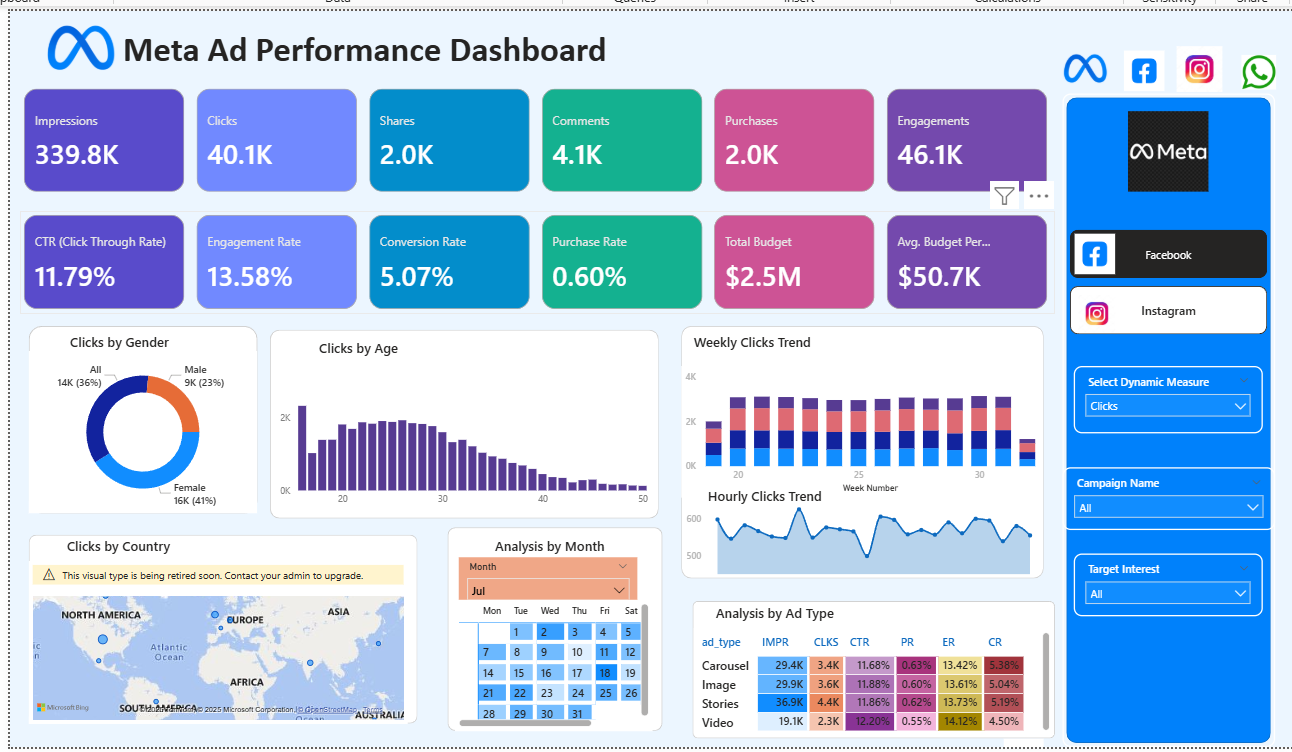

What the dashboard file says about the page in this screenshot:
{"tool":"powerbi","page":{"name":"Facebook","canvas":[1570,900],"ordinal":0},"visuals":[{"type":"textbox","box":[133,15.3,637.4,90.2],"z":0},{"type":"image","box":[0,6.1,133,99.4],"z":1000},{"type":"shape","box":[1287,100.9,259.9,799.4],"z":2000},{"type":"cardVisual","fields":{"Data":["ad_events.Impressions","ad_events.Clicks","ad_events.Shares","ad_events.Comments","ad_events.Purchases","ad_events.Engagements"]},"box":[12.2,90.2,1265.6,136],"z":3000},{"type":"cardVisual","fields":{"Data":["ad_events.CTR (Click Through Rate)","ad_events.Engagement Rate","ad_events.Conversion Rate","ad_events.Purchase Rate","ad_events.Total Budget","ad_events.Avg. Budget Per Campaign"]},"box":[12.2,244.6,1265.6,125.3],"z":4000},{"type":"slicer","fields":{"Values":["Select Dynamic Measure.Select Dynamic Measure"]},"box":[1300.8,434.1,230.8,82.5],"z":5000},{"type":"shape","box":[22.9,385.2,279.7,229.3],"z":6000},{"type":"donutChart","fields":{"Y":["ad_events.Clicks"],"Category":["ads.target_gender"]},"box":[23.6,415.7,279.4,198.6],"z":7000},{"type":"shape","box":[317.9,389.8,475.4,230.8],"z":8000},{"type":"card","fields":{"Values":["ad_events.Gender Title"]},"box":[47.1,390.5,173.4,35.3],"z":9000},{"type":"columnChart","fields":{"Y":["ad_events.Clicks"],"Category":["users.user_age"]},"box":[325.6,438.7,460.1,175.8],"z":10000},{"type":"card","fields":{"Values":["ad_events.Age Title"]},"box":[339.3,397.4,174.3,35.2],"z":11000},{"type":"shape","box":[22.9,640.5,475.4,230.8],"z":12000},{"type":"map","fields":{"Size":["ad_events.Clicks"],"Category":["users.country"]},"box":[22.9,672.6,463.1,198.7],"z":13000},{"type":"card","fields":{"Values":["ad_events.Map Title"]},"box":[29,640.5,207.9,32.1],"z":14000},{"type":"shape","box":[535,631.3,262.9,249.2],"z":15000},{"type":"pivotTable","fields":{"Rows":["Calender Table.Week Number"],"Columns":["Calender Table.Day Name"],"Values":["Min(Calender Table.Day Number)"]},"box":[544.2,719.9,241.5,160.5],"z":16000},{"type":"slicer","fields":{"Values":["Calender Table.Month"]},"box":[548.7,668,218.6,52],"z":17000},{"type":"card","fields":{"Values":["ad_events.Calender Title"]},"box":[556.4,640.5,207.9,32.1],"z":18000},{"type":"shape","box":[820.8,385.2,443.3,308.8],"z":19000},{"type":"columnChart","fields":{"Y":["ad_events.Clicks"],"Category":["Calender Table.Week Number"],"Series":["ads.ad_type"]},"box":[820.8,434.1,440.2,160.5],"z":20000},{"type":"qnaVisual","box":[1215.2,889.6,48.9,10.7],"z":21000},{"type":"card","fields":{"Values":["ad_events.Weekly Title"]},"box":[820.8,389.8,174.3,35.2],"z":22000},{"type":"areaChart","fields":{"Y":["ad_events.Clicks"],"Category":["ad_events.Event Hour"]},"box":[822.4,585.4,440.2,108.5],"z":23000},{"type":"card","fields":{"Values":["ad_events.Hourly Title"]},"box":[836.1,576.3,174.3,38.2],"z":24000},{"type":"shape","box":[834.6,721.5,443.3,168.1],"z":25000},{"type":"pivotTable","fields":{"Rows":["ads.ad_type"],"Values":["ad_events.Impressions","ad_events.Clicks","ad_events.CTR (Click Through Rate)","ad_events.Purchase Rate","ad_events.Engagement Rate","ad_events.Conversion Rate"]},"box":[836.1,755.1,440.2,129.9],"z":26000},{"type":"card","fields":{"Values":["ad_events.Matrix Title"]},"box":[848.3,721.5,174.3,35.2],"z":27000},{"type":"image","box":[1285.5,117.7,261.4,108.5],"z":28000},{"type":"slicer","fields":{"Values":["campaigns.name"]},"box":[1287,557.9,259.9,76.4],"z":29000},{"type":"slicer","fields":{"Values":["ads.target_interests"]},"box":[1300.8,663.4,230.8,76.4],"z":30000},{"type":"pageNavigator","box":[1296.2,267.5,241.5,129.9],"z":31000},{"type":"image","box":[1300.8,342.4,56.6,55],"z":32000},{"type":"image","box":[1296.2,267.5,61.1,59.6],"z":33000},{"type":"image","box":[1357.3,42.8,59.6,61.1],"z":34000},{"type":"image","box":[1417,38.2,74.9,65.7],"z":35000},{"type":"image","box":[1484.2,48.9,85.6,52],"z":36000},{"type":"image","box":[1276.3,39.7,78,61.1],"z":37000}]}

Visuals, with their boxes on the page's 1570x900 design canvas (x1, y1, x2, y2). These are canvas units, not pixel positions in the 1292x752 screenshot, which may show the page scaled, cropped or inside an application window:
textbox: crop(133, 15, 770, 106)
image: crop(0, 6, 133, 106)
shape: crop(1287, 101, 1547, 900)
cardVisual - ad_events.Impressions x ad_events.Clicks: crop(12, 90, 1278, 226)
cardVisual - ad_events.CTR (Click Through Rate) x ad_events.Engagement Rate: crop(12, 245, 1278, 370)
slicer - Select Dynamic Measure.Select Dynamic Measure: crop(1301, 434, 1532, 517)
shape: crop(23, 385, 303, 614)
donutChart - ad_events.Clicks x ads.target_gender: crop(24, 416, 303, 614)
shape: crop(318, 390, 793, 621)
card - ad_events.Gender Title: crop(47, 390, 220, 426)
columnChart - ad_events.Clicks x users.user_age: crop(326, 439, 786, 614)
card - ad_events.Age Title: crop(339, 397, 514, 433)
shape: crop(23, 640, 498, 871)
map - ad_events.Clicks x users.country: crop(23, 673, 486, 871)
card - ad_events.Map Title: crop(29, 640, 237, 673)
shape: crop(535, 631, 798, 880)
pivotTable - Calender Table.Week Number x Calender Table.Day Name: crop(544, 720, 786, 880)
slicer - Calender Table.Month: crop(549, 668, 767, 720)
card - ad_events.Calender Title: crop(556, 640, 764, 673)
shape: crop(821, 385, 1264, 694)
columnChart - ad_events.Clicks x Calender Table.Week Number: crop(821, 434, 1261, 595)
qnaVisual: crop(1215, 890, 1264, 900)
card - ad_events.Weekly Title: crop(821, 390, 995, 425)
areaChart - ad_events.Clicks x ad_events.Event Hour: crop(822, 585, 1263, 694)
card - ad_events.Hourly Title: crop(836, 576, 1010, 614)
shape: crop(835, 722, 1278, 890)
pivotTable - ads.ad_type x ad_events.Impressions: crop(836, 755, 1276, 885)
card - ad_events.Matrix Title: crop(848, 722, 1023, 757)
image: crop(1286, 118, 1547, 226)
slicer - campaigns.name: crop(1287, 558, 1547, 634)
slicer - ads.target_interests: crop(1301, 663, 1532, 740)
pageNavigator: crop(1296, 268, 1538, 397)
image: crop(1301, 342, 1357, 397)
image: crop(1296, 268, 1357, 327)
image: crop(1357, 43, 1417, 104)
image: crop(1417, 38, 1492, 104)
image: crop(1484, 49, 1570, 101)
image: crop(1276, 40, 1354, 101)
